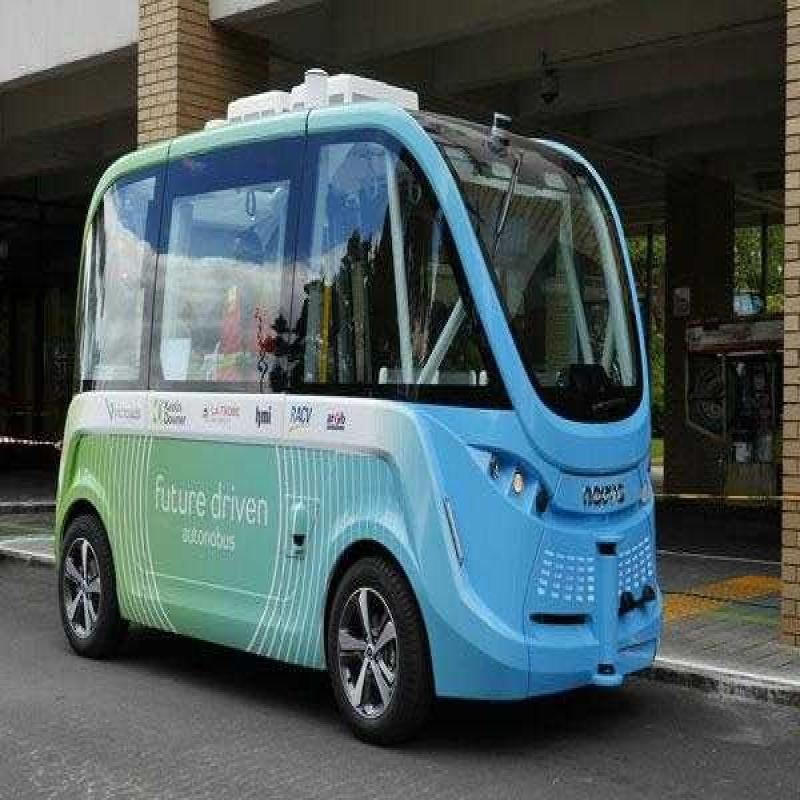bus: (39, 46, 696, 768)
